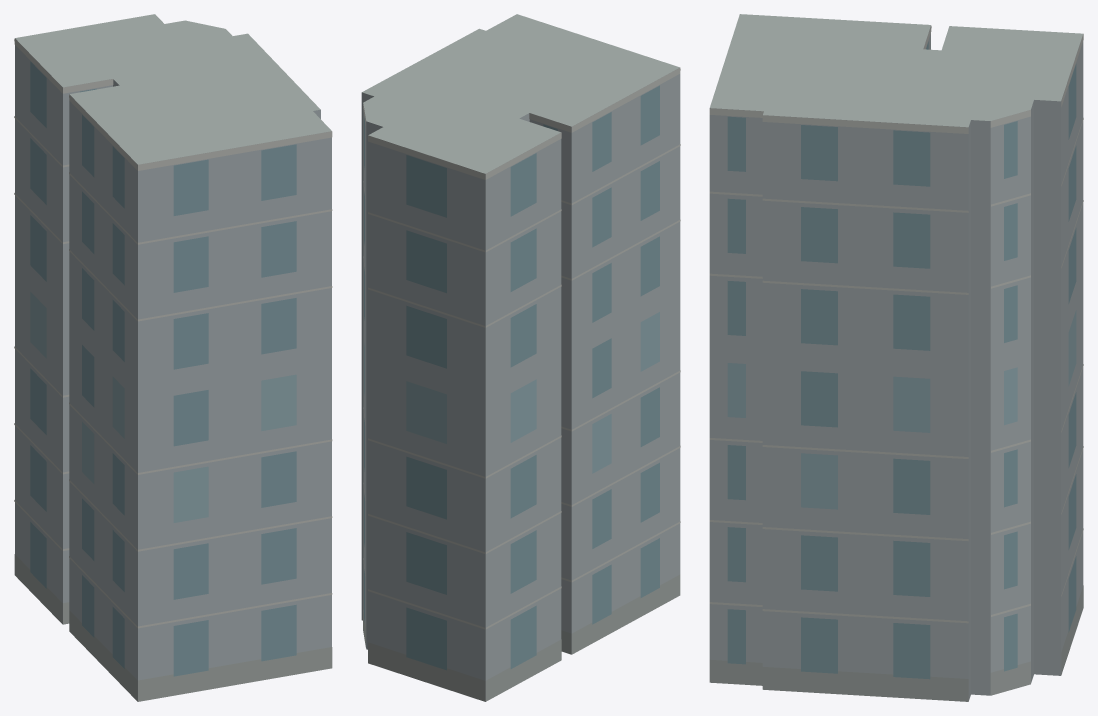
File: survey-upis-32669956.glb
The picture shows the model from 3 angles, left to right: view 1: azimuth 30°, elevation 25°; view 2: azimuth 150°, elevation 25°; view 3: azimuth 270°, elevation 25°; orthographic projection. The views are drawn at different scales.
Parts seen in each view (by area): view 1: survey-upis-32669956.tmp; view 2: survey-upis-32669956.tmp; view 3: survey-upis-32669956.tmp.
Boxes of the visible parts, bbox=[...] form: survey-upis-32669956.tmp: bbox=[14, 14, 332, 701]; survey-upis-32669956.tmp: bbox=[361, 14, 680, 701]; survey-upis-32669956.tmp: bbox=[709, 14, 1083, 701].
Bounding box in the file's own units: 8.78 × 20.7 × 12.23.
